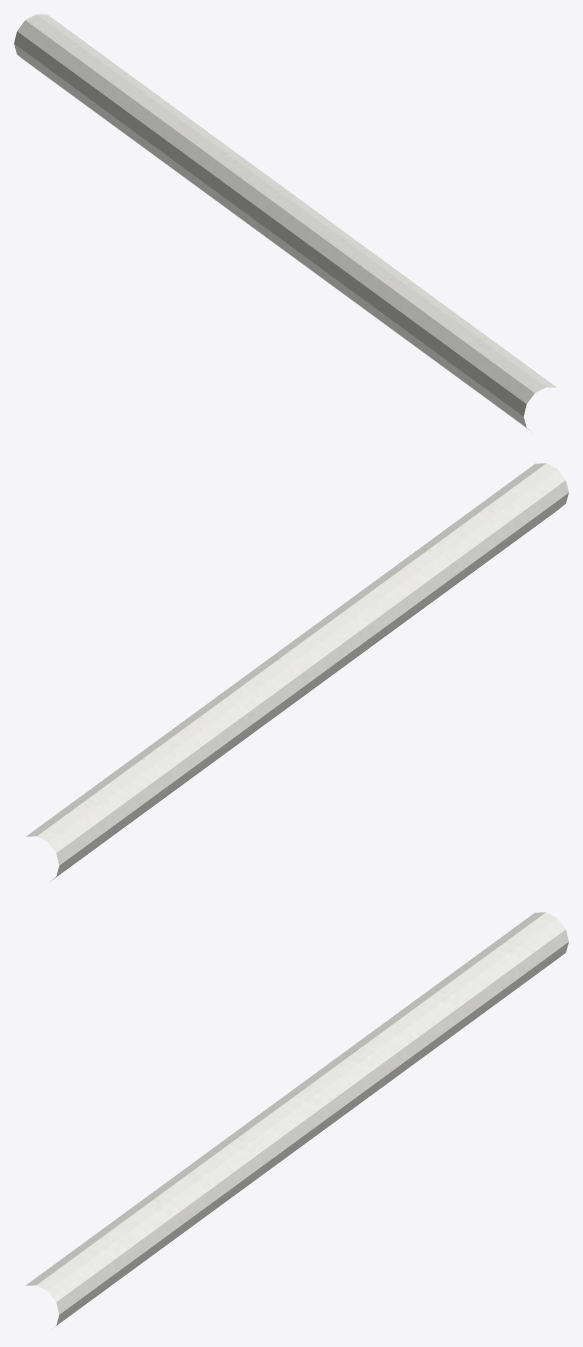
Rendered from srqpj024-geode.glb.
3 views of the same model, one above another, from view 1: azimuth 30°, elevation 25°; view 2: azimuth 150°, elevation 25°; view 3: azimuth 330°, elevation 25° (orthographic).
Parts seen in each view (by area): view 1: Node; view 2: Node; view 3: Node.
Part boxes in pixels (x1,y1,x2,y2): Node: [14, 14, 556, 432]; Node: [26, 463, 568, 881]; Node: [26, 912, 568, 1325].
Size of the model in its own units: 0.201 by 0.201 by 3.92.
Materials: 1 (1 with a texture image).
